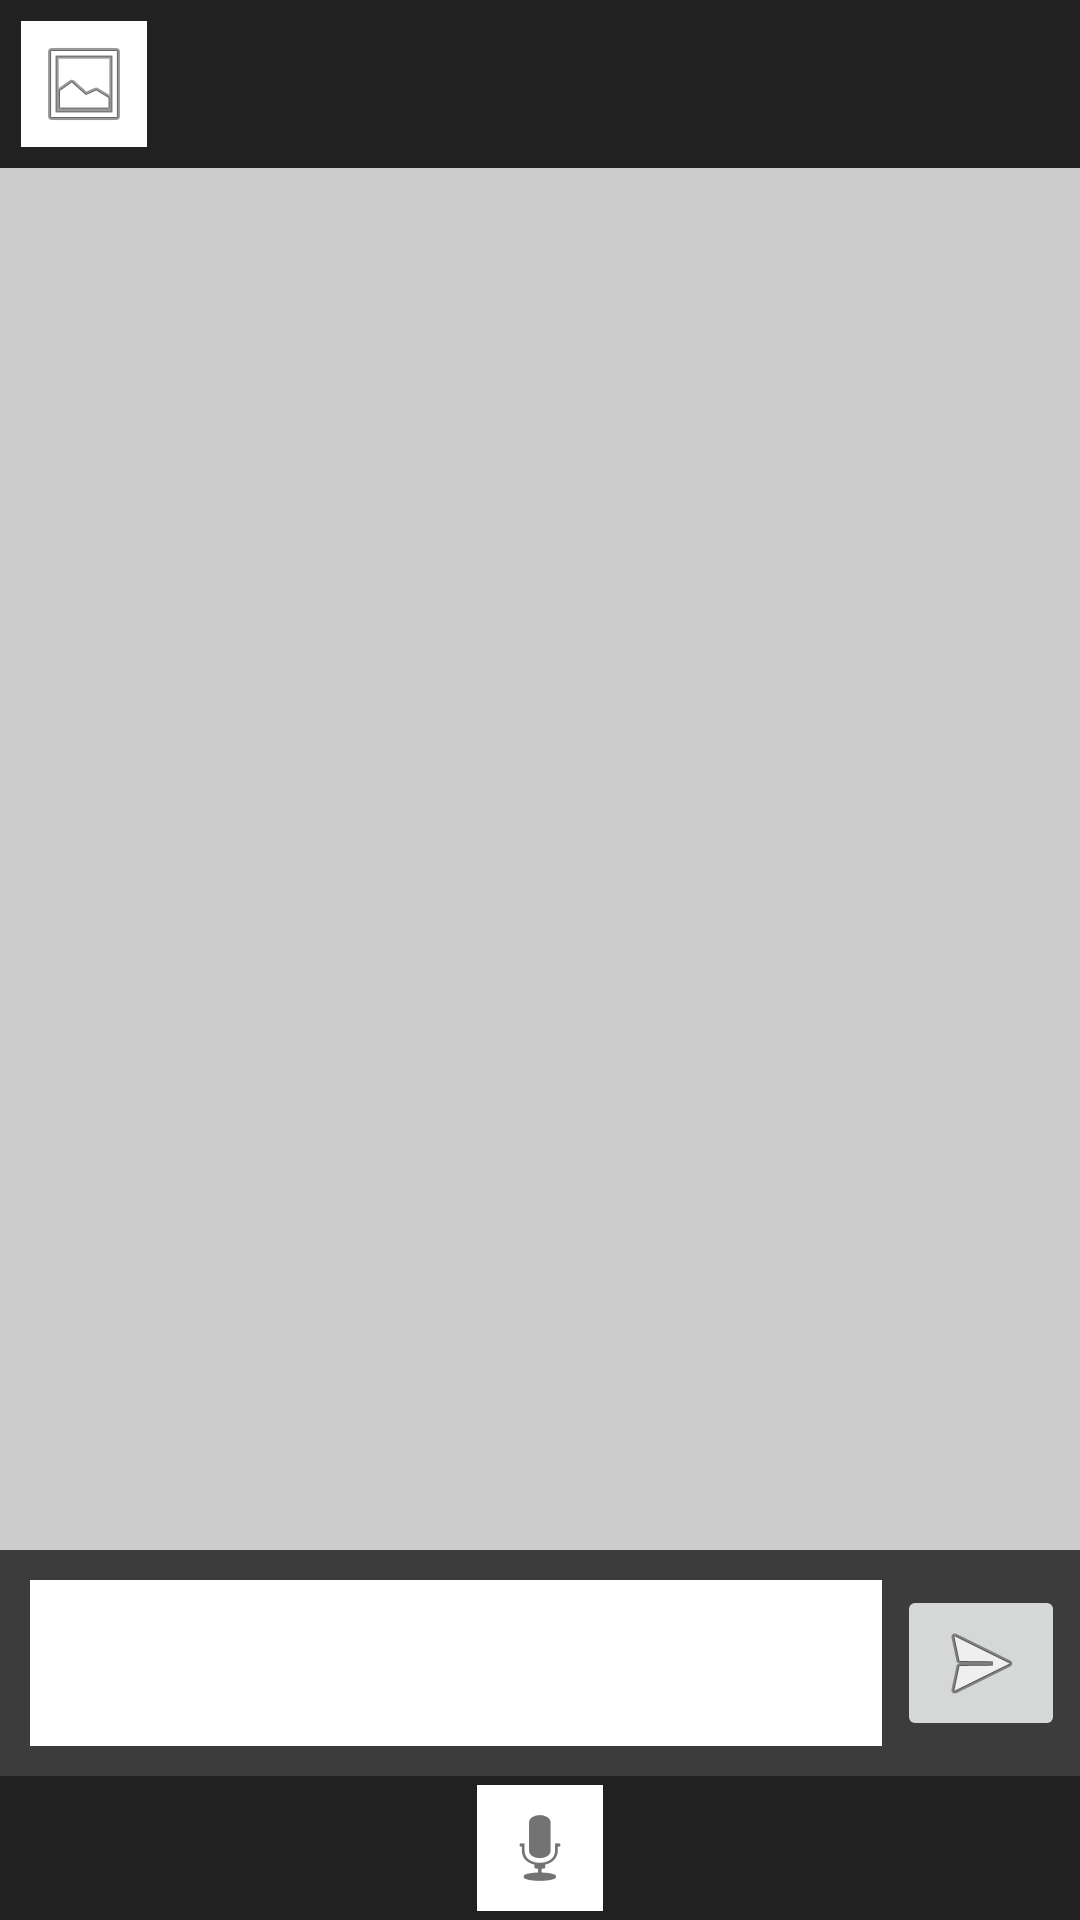

Screen size 1080*1920. Icon name, then its center in pixels as point (x, y):
gallery: point (84, 84)
send: point (981, 1663)
speak now: point (540, 1848)
